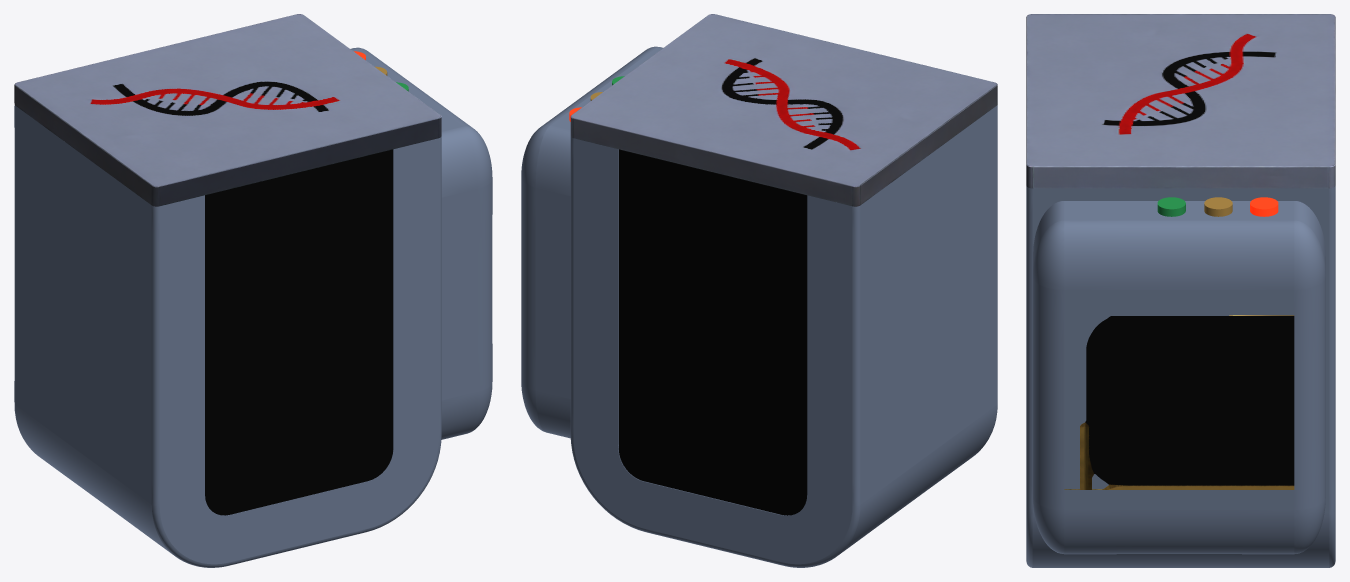
Rendered from 误删源文件.fbx.
The picture shows the model from 3 angles, left to right: view 1: azimuth 30°, elevation 25°; view 2: azimuth 150°, elevation 25°; view 3: azimuth 270°, elevation 25°; orthographic projection. The views are drawn at different scales.
Parts seen in each view (by area): view 1: 物件_213, 物件_215, 物件_211, 物件_216; view 2: 物件_213, 物件_212, 物件_211, 物件_216; view 3: 物件_216, 物件_211, 物件_221, 物件_213, 物件_217, 物件_219, 物件_218.
Boxes of the visible parts, x1,y1,x2,y2 form: 物件_213: [14, 105, 441, 567]; 物件_215: [205, 149, 393, 515]; 物件_211: [14, 14, 441, 206]; 物件_216: [350, 47, 492, 439]; 物件_213: [570, 105, 997, 567]; 物件_212: [619, 149, 807, 515]; 物件_211: [570, 14, 997, 206]; 物件_216: [521, 46, 662, 438]; 物件_216: [1033, 201, 1325, 554]; 物件_211: [1026, 14, 1335, 188]; 物件_221: [1064, 315, 1294, 489]; 物件_213: [1026, 186, 1335, 567]; 物件_217: [1250, 197, 1278, 216]; 物件_219: [1157, 197, 1185, 216]; 物件_218: [1204, 197, 1232, 216].
Size of the model in its own units: 22.85 by 24.66 by 15.98.
